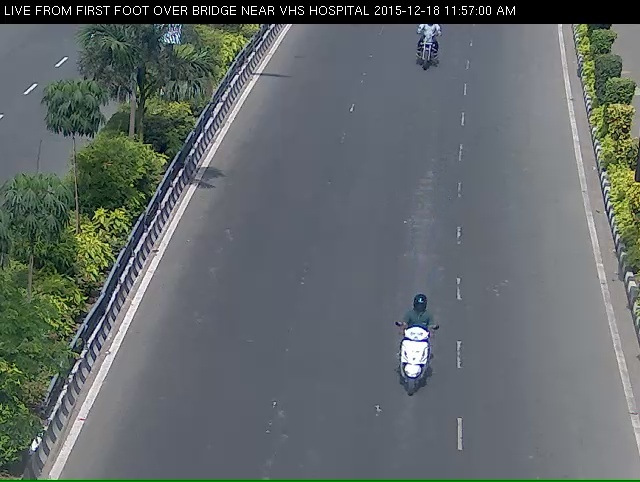Person: (379, 329, 440, 448), (401, 26, 451, 97)
